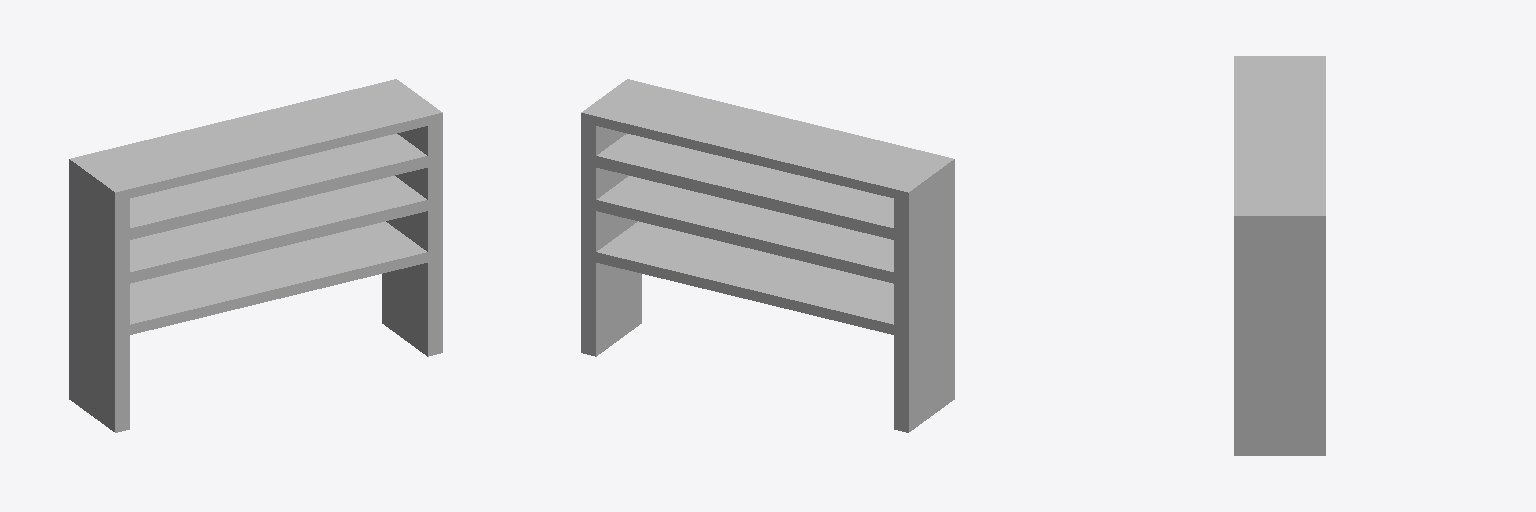
The model's file is Shelf.obj.
The picture shows the model from 3 angles: view 1: azimuth 30°, elevation 25°; view 2: azimuth 150°, elevation 25°; view 3: azimuth 270°, elevation 25°; orthographic projection.
Visible parts, largest first — view 1: shelf; view 2: shelf; view 3: shelf.
Part boxes in pixels (x1,y1,x2,y2): shelf: (69,79,442,432); shelf: (581,79,954,432); shelf: (1234,56,1325,455).
Bounding box in the file's own units: 15.68 × 11 × 3.82.